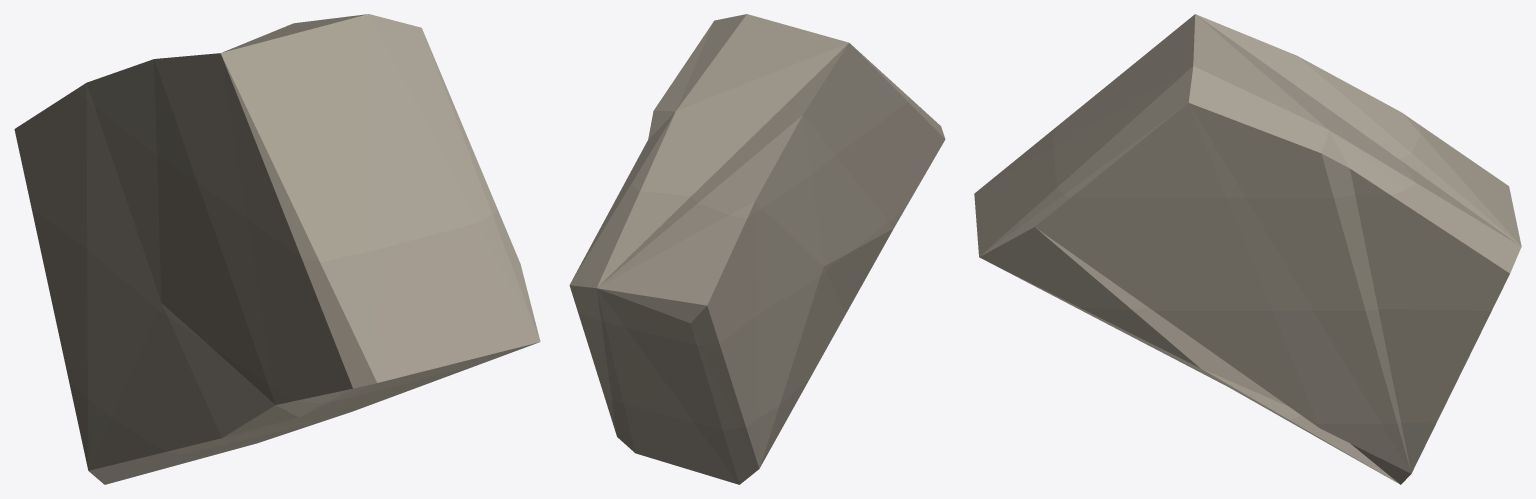
File: YN_RockPlate10.fbx
3 views of the same model, side by side, from view 1: azimuth 30°, elevation 25°; view 2: azimuth 150°, elevation 25°; view 3: azimuth 270°, elevation 25° (orthographic). The views are drawn at different scales.
Visible parts, largest first — view 1: RockPlate10; view 2: RockPlate10; view 3: RockPlate10.
Part boxes in pixels (x1=…): RockPlate10: x1=14, y1=14, x2=540, y2=484; RockPlate10: x1=569, y1=14, x2=945, y2=484; RockPlate10: x1=974, y1=14, x2=1521, y2=484.
Size of the model in its own units: 0.4181 by 1.04 by 1.24.
